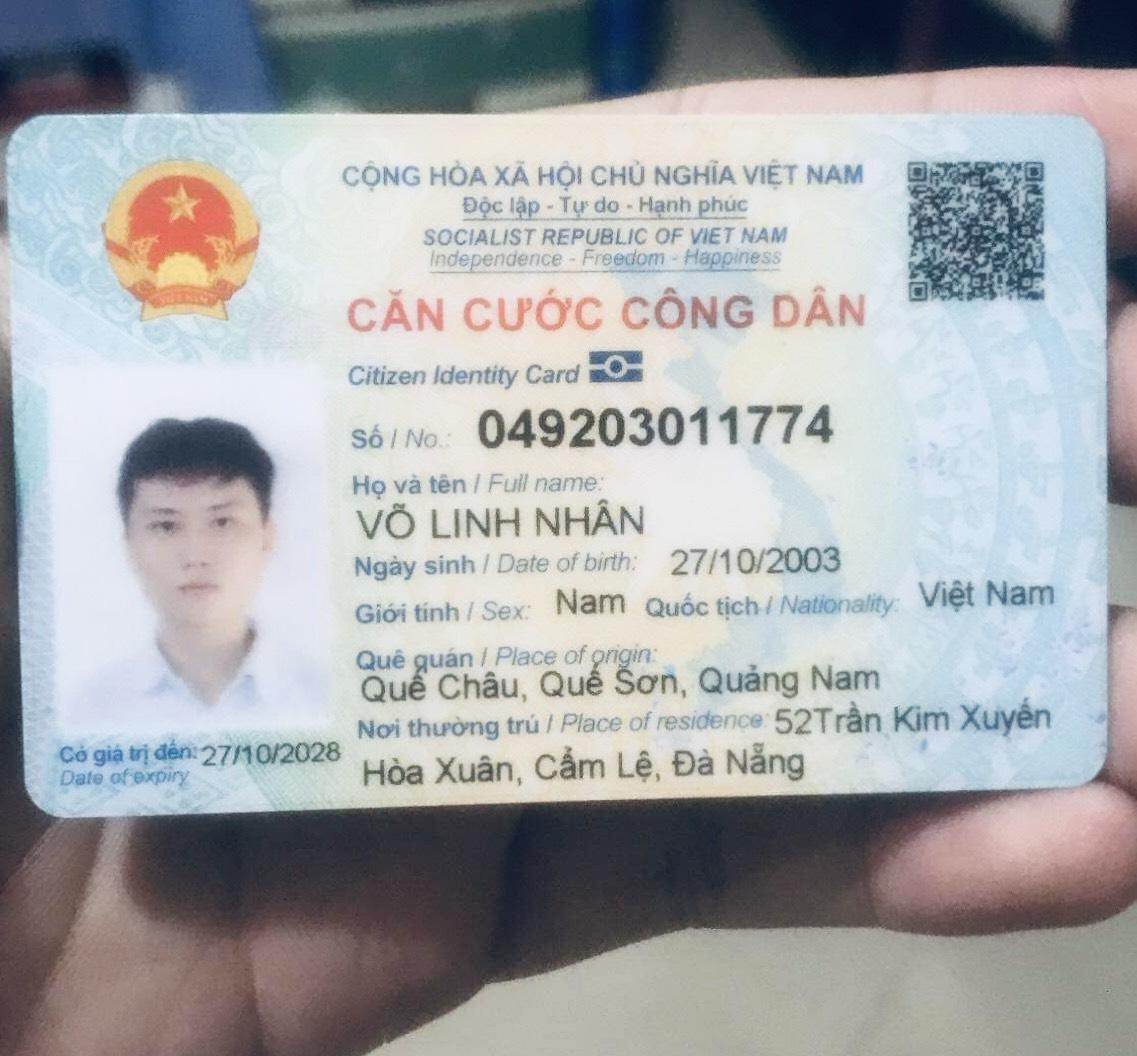ID: (471, 395, 848, 460)
birth: (661, 541, 856, 583)
name: (345, 493, 665, 548)
place: (349, 659, 895, 707)
residence: (345, 741, 820, 790), (773, 697, 1055, 745)
